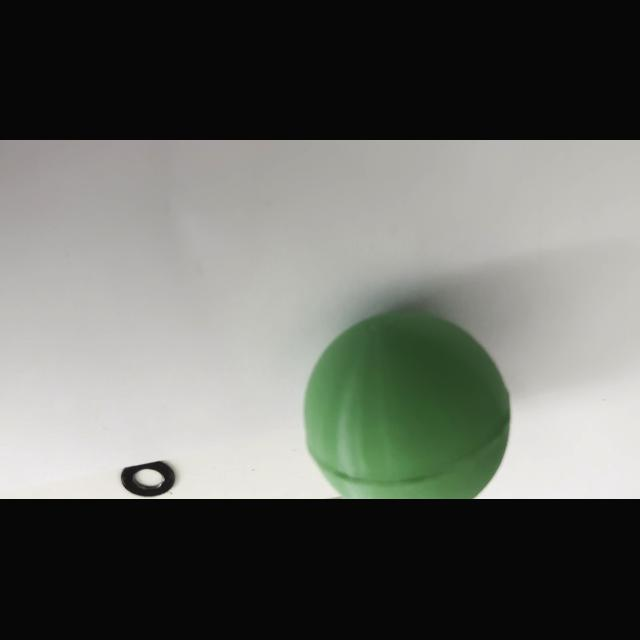objects: (298, 302, 516, 500)
